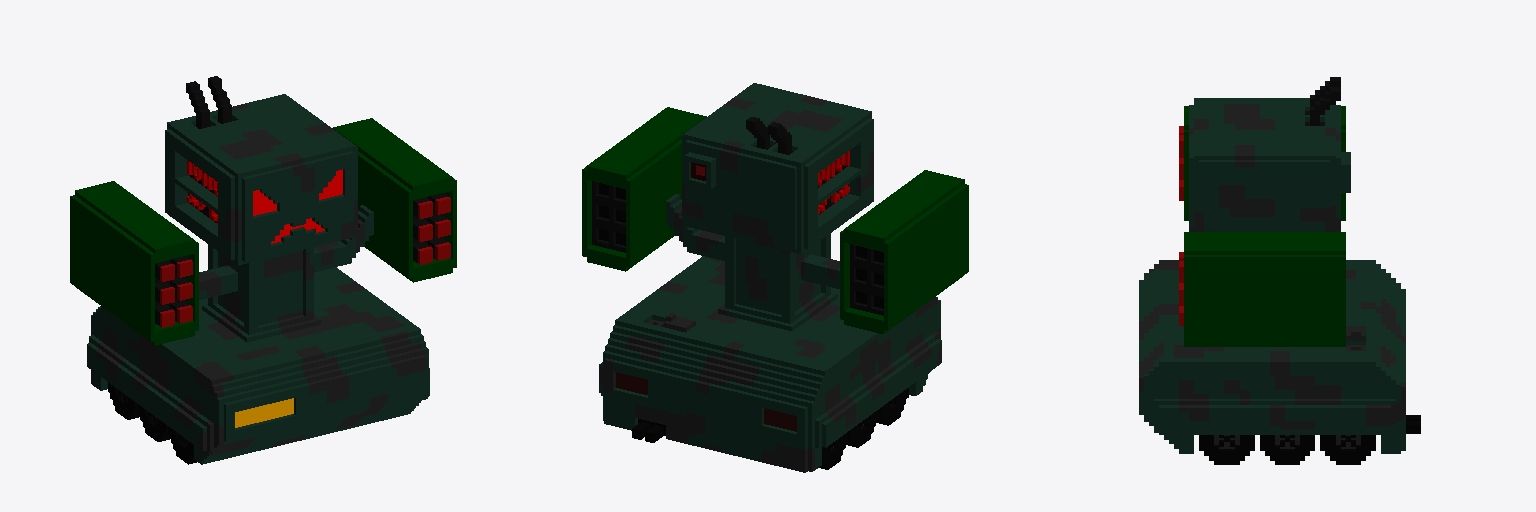
3 views of the same model, side by side, from view 1: azimuth 30°, elevation 25°; view 2: azimuth 150°, elevation 25°; view 3: azimuth 270°, elevation 25° (orthographic).
Visible parts, largest first — view 1: object 1; view 2: object 1; view 3: object 1.
Boxes of the visible parts, x1=… form: object 1: x1=70, y1=76, x2=456, y2=464; object 1: x1=582, y1=83, x2=968, y2=472; object 1: x1=1139, y1=77, x2=1420, y2=464.
Bounding box in the file's own units: 7 × 7 × 5.6.
1 materials, 1 textured.